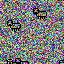sheep: (7, 20, 21, 31), (33, 8, 47, 19), (15, 57, 29, 64), (7, 59, 21, 64)
